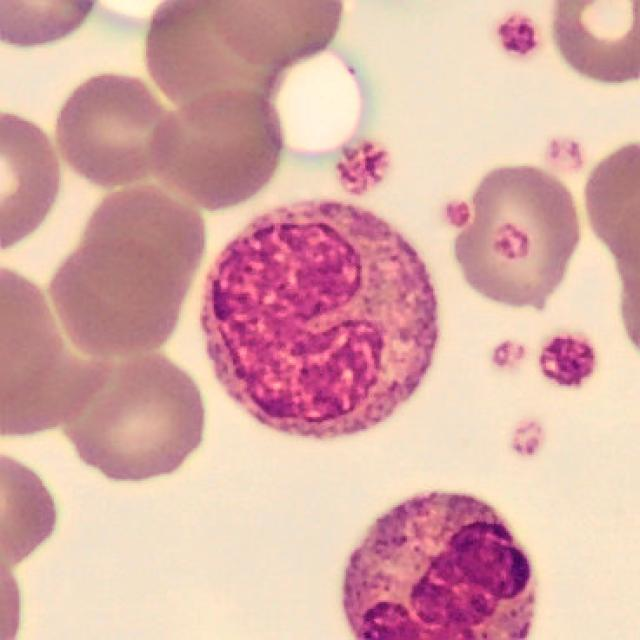Bastonete: (200, 201, 438, 439)
